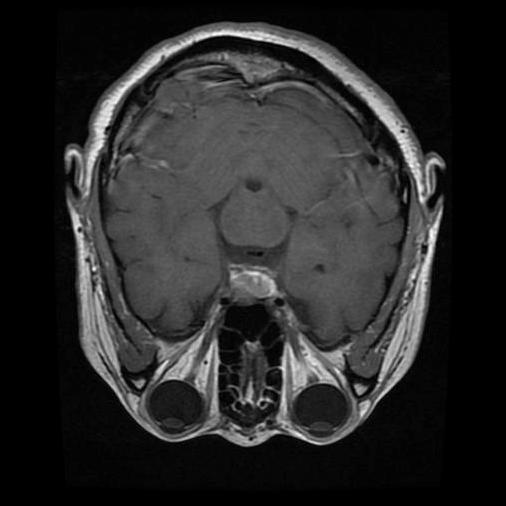Tumour-Pituitary: (219, 263, 282, 302)
